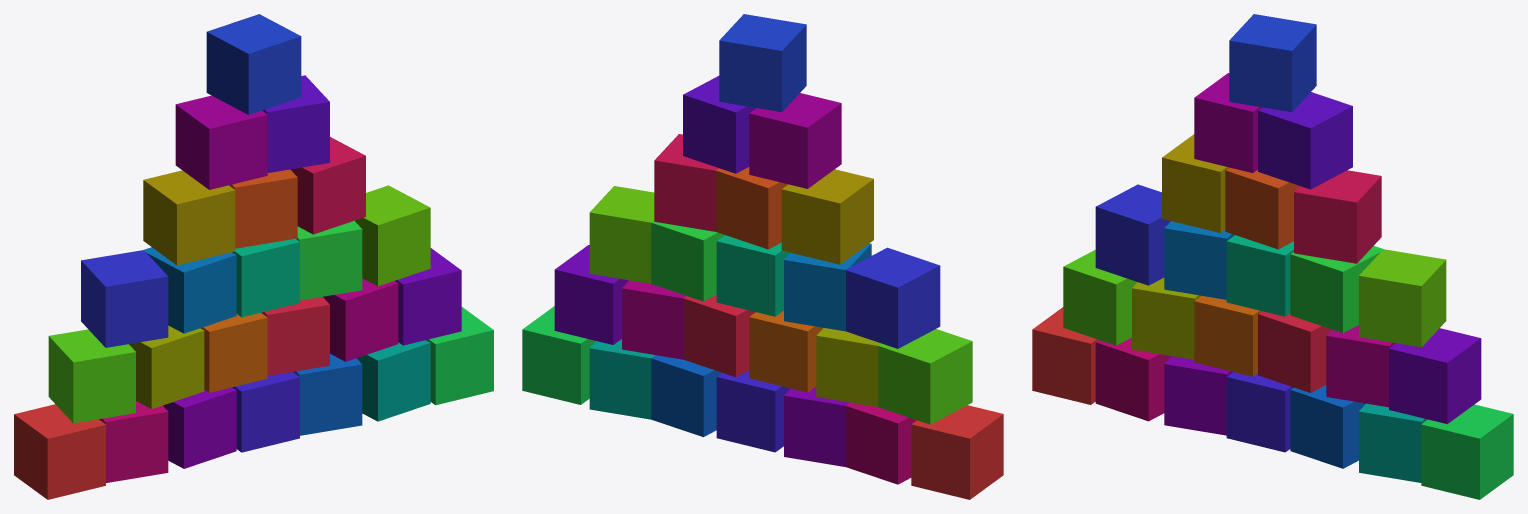
The model's file is blocks.glb.
3 views of the same model, side by side, from view 1: azimuth 30°, elevation 25°; view 2: azimuth 150°, elevation 25°; view 3: azimuth 330°, elevation 25° (orthographic).
Bounding box in the file's own units: 4.28 × 3.66 × 0.6374.
